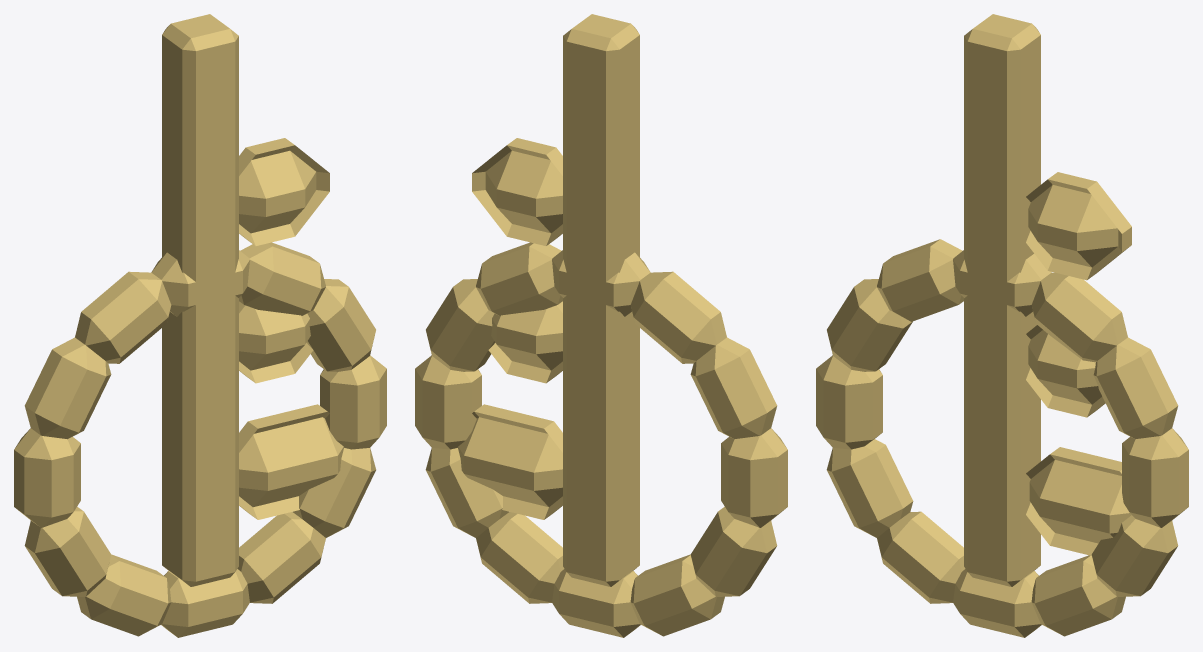
The model's file is item_key.glb.
3 views of the same model, side by side, from view 1: azimuth 30°, elevation 25°; view 2: azimuth 150°, elevation 25°; view 3: azimuth 330°, elevation 25° (orthographic).
Visible parts, largest first — view 1: body; view 2: body; view 3: body.
Part boxes in pixels (x1=…): body: x1=14, y1=14, x2=386, y2=637; body: x1=415, y1=14, x2=787, y2=637; body: x1=816, y1=14, x2=1188, y2=637.
Bounding box in the file's own units: 0.083 × 0.1315 × 0.012.
